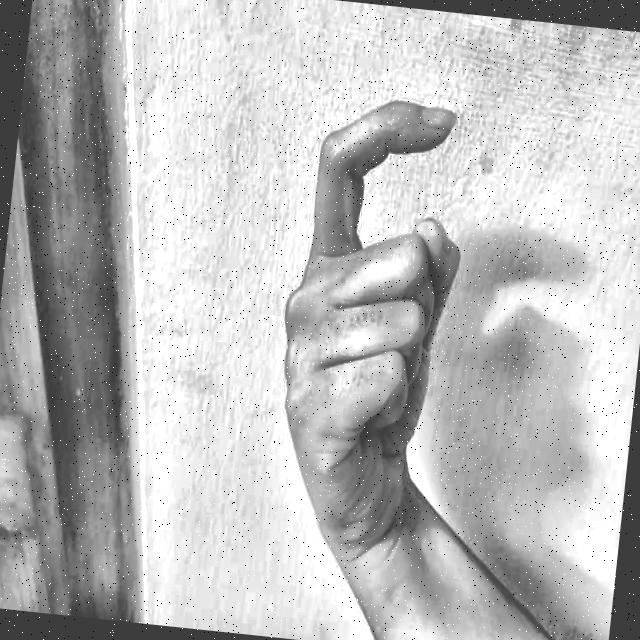E: (237, 53, 543, 563)
